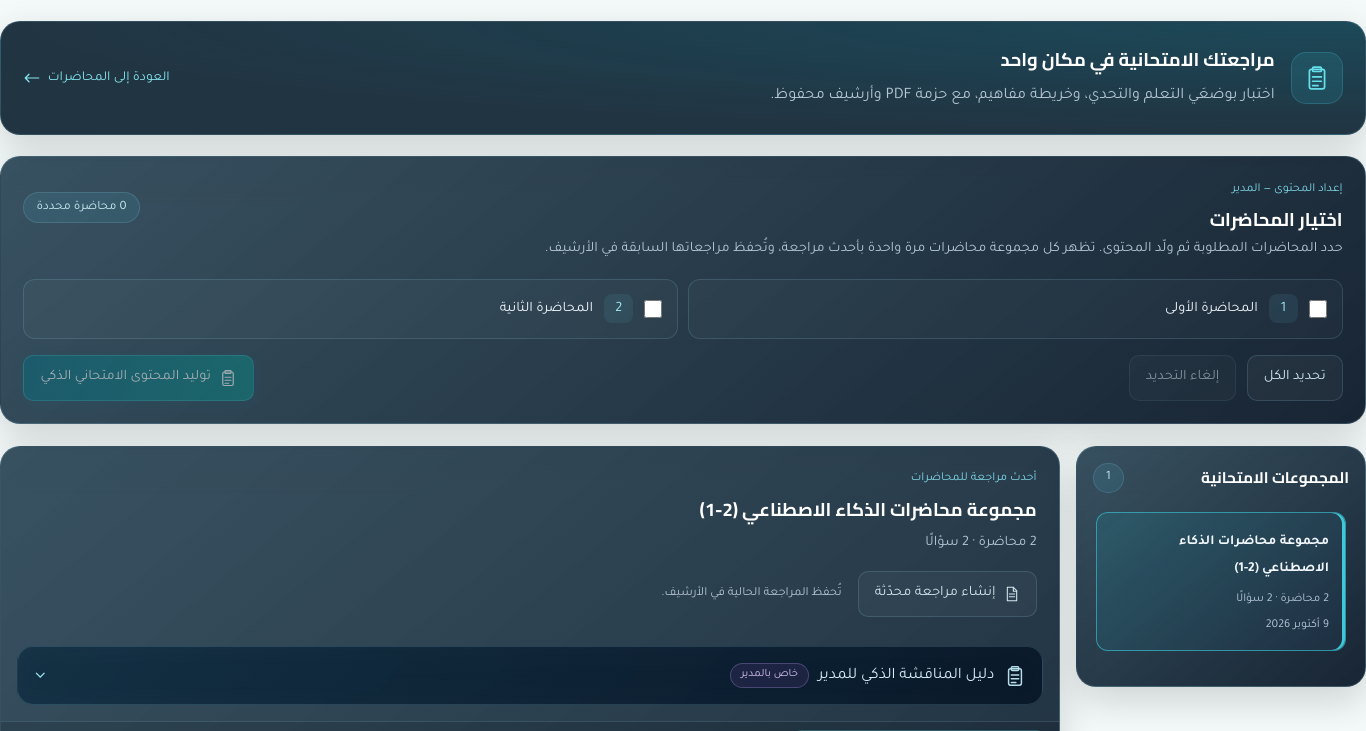
Scenario: exam material selection and archive navigation › blocks empty generation, selects and clears lectures, then archives a new selection without replacing the old group
This screenshot has width=1366, height=731.
Check: the button "توليد المحتوى الامتحاني الذكي" is disabled, box [23,355,254,401]
What coordinates should you click on to do the following:
click the button "تحديد الكل"
I would click on:
 (1295, 378)
Its box is [1247,355,1343,401].
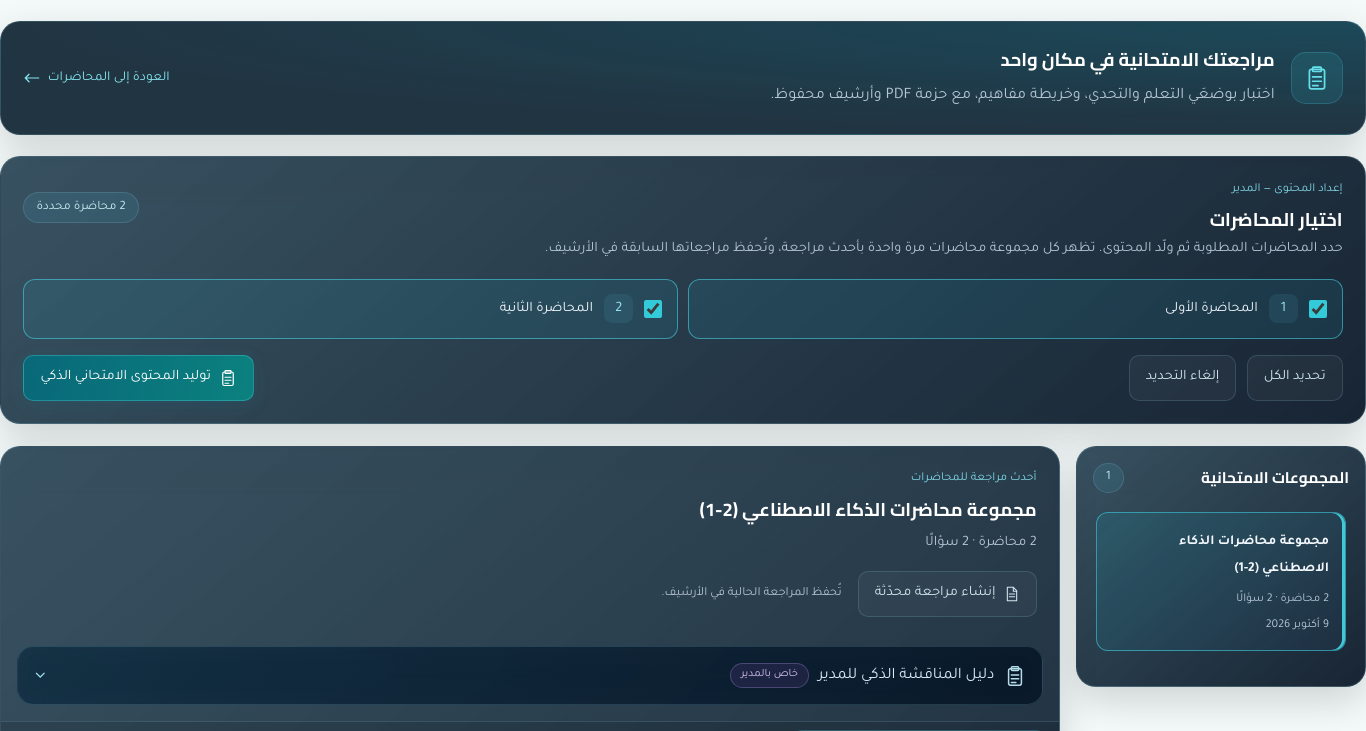
What coordinates should you click on to do the following:
click the button "إلغاء التحديد"
I would click on:
 (1182, 378)
Its box is [1129,355,1236,401].
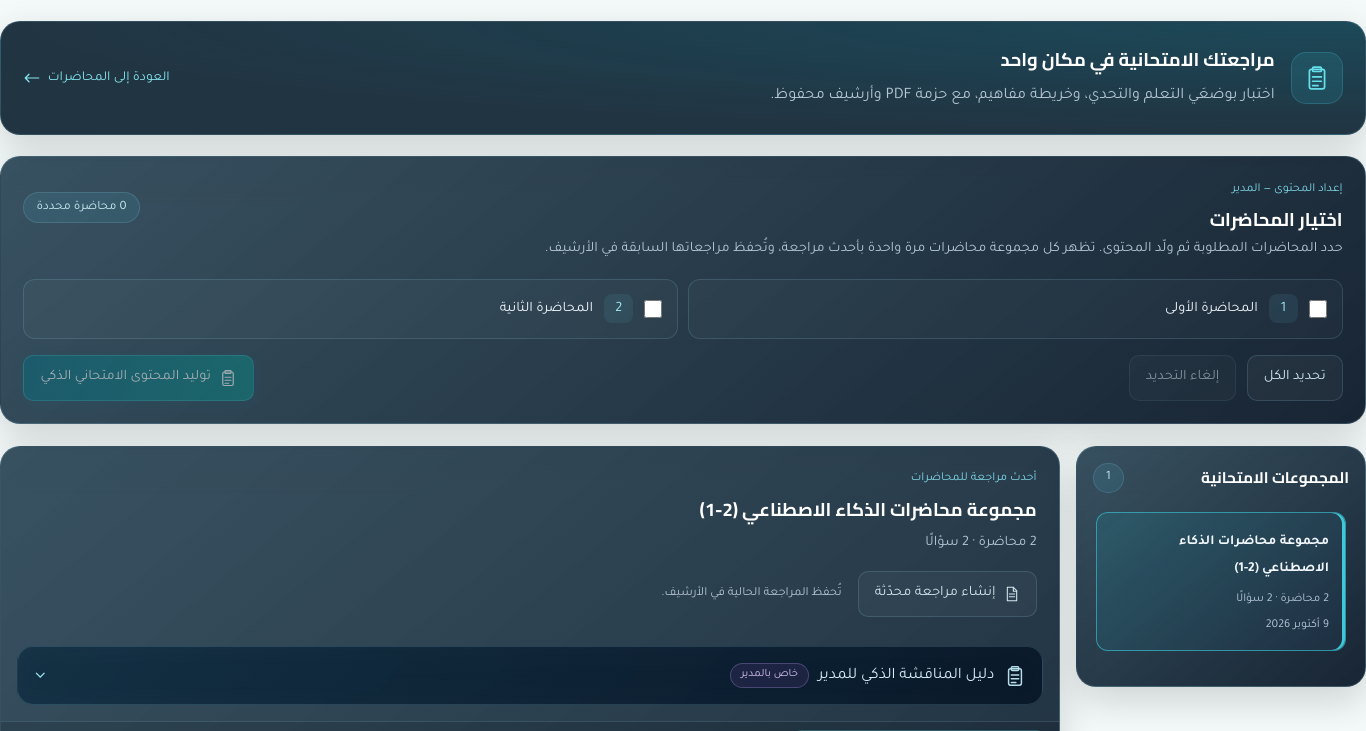
Check: the button "توليد المحتوى الامتحاني الذكي" is disabled, box [23,355,254,401]
What coordinates should you click on to do the following:
click the checkbox labelled "2 المحاضرة الثانية"
I would click on:
 (653, 309)
Its box is [644,300,662,318].
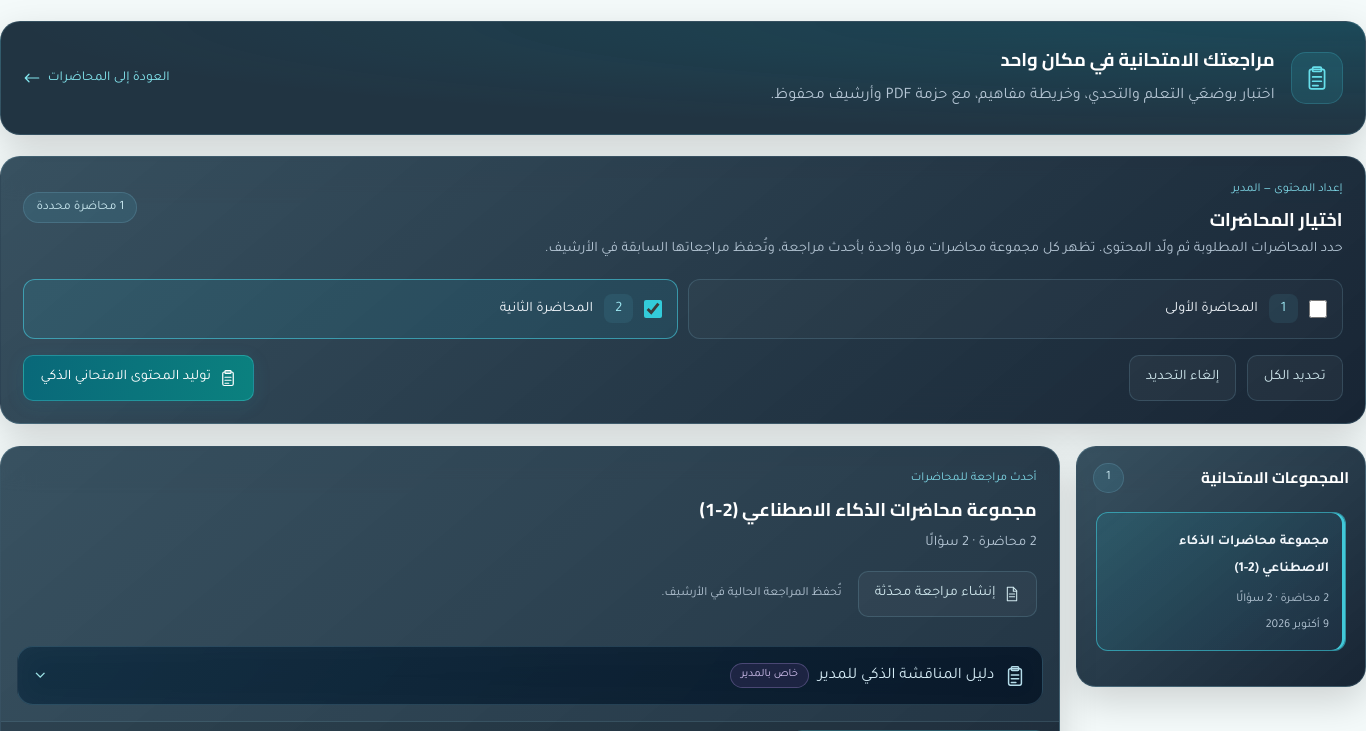
What coordinates should you click on to do the following:
click the button "توليد المحتوى الامتحاني الذكي"
I would click on:
 (139, 378)
Its box is [23,355,254,401].
(page scrolled)
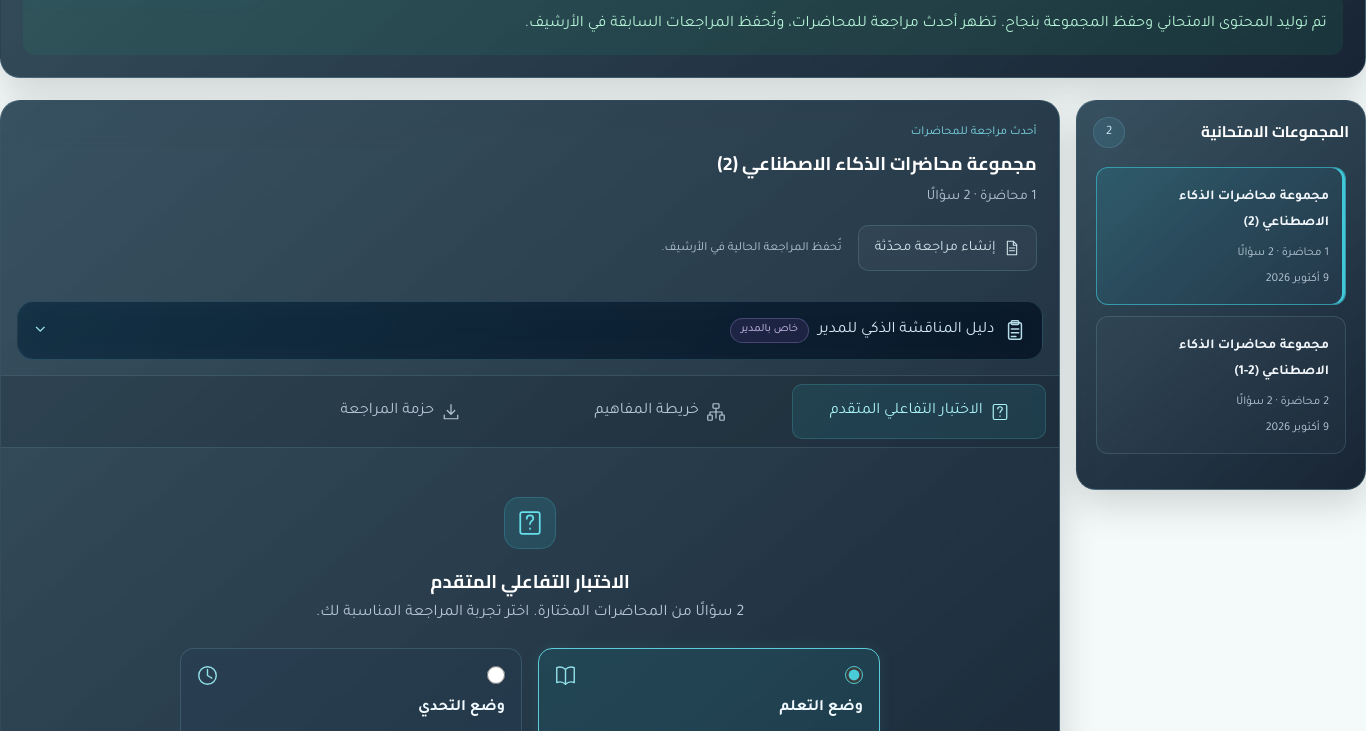
Check: the text "تم توليد المحتوى الامتحاني وحفظ المجموعة بنجاح" is shown, box [525,16,1327,32]
Check: the heading "مجموعة محاضرات الذكاء الاصطناعي (2)" is shown, box [717,146,1037,181]
What coordinates should you click on to do the following:
click the tab "(1-2)"
I would click on:
 (1221, 385)
Its box is [1096,316,1346,454].
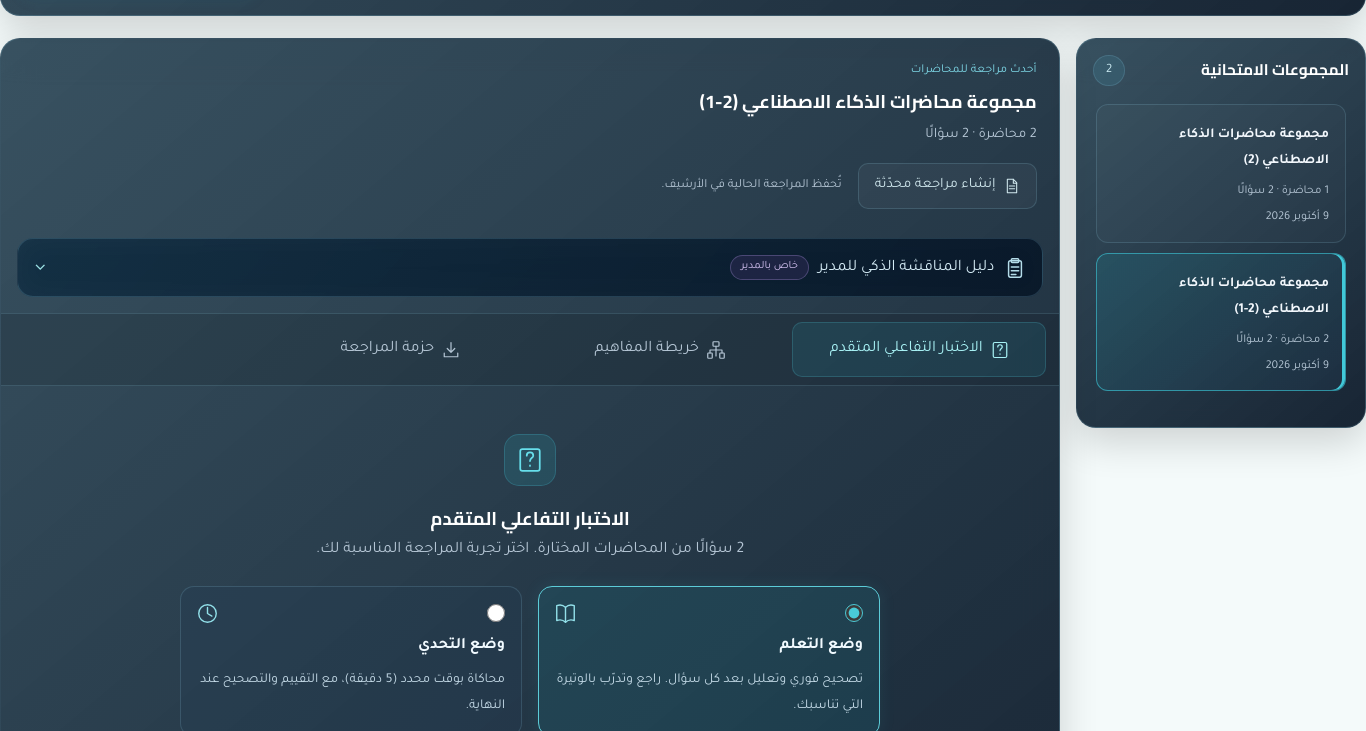
Check: the heading "مجموعة محاضرات الذكاء الاصطناعي (1-2)" is shown, box [700,84,1037,119]
